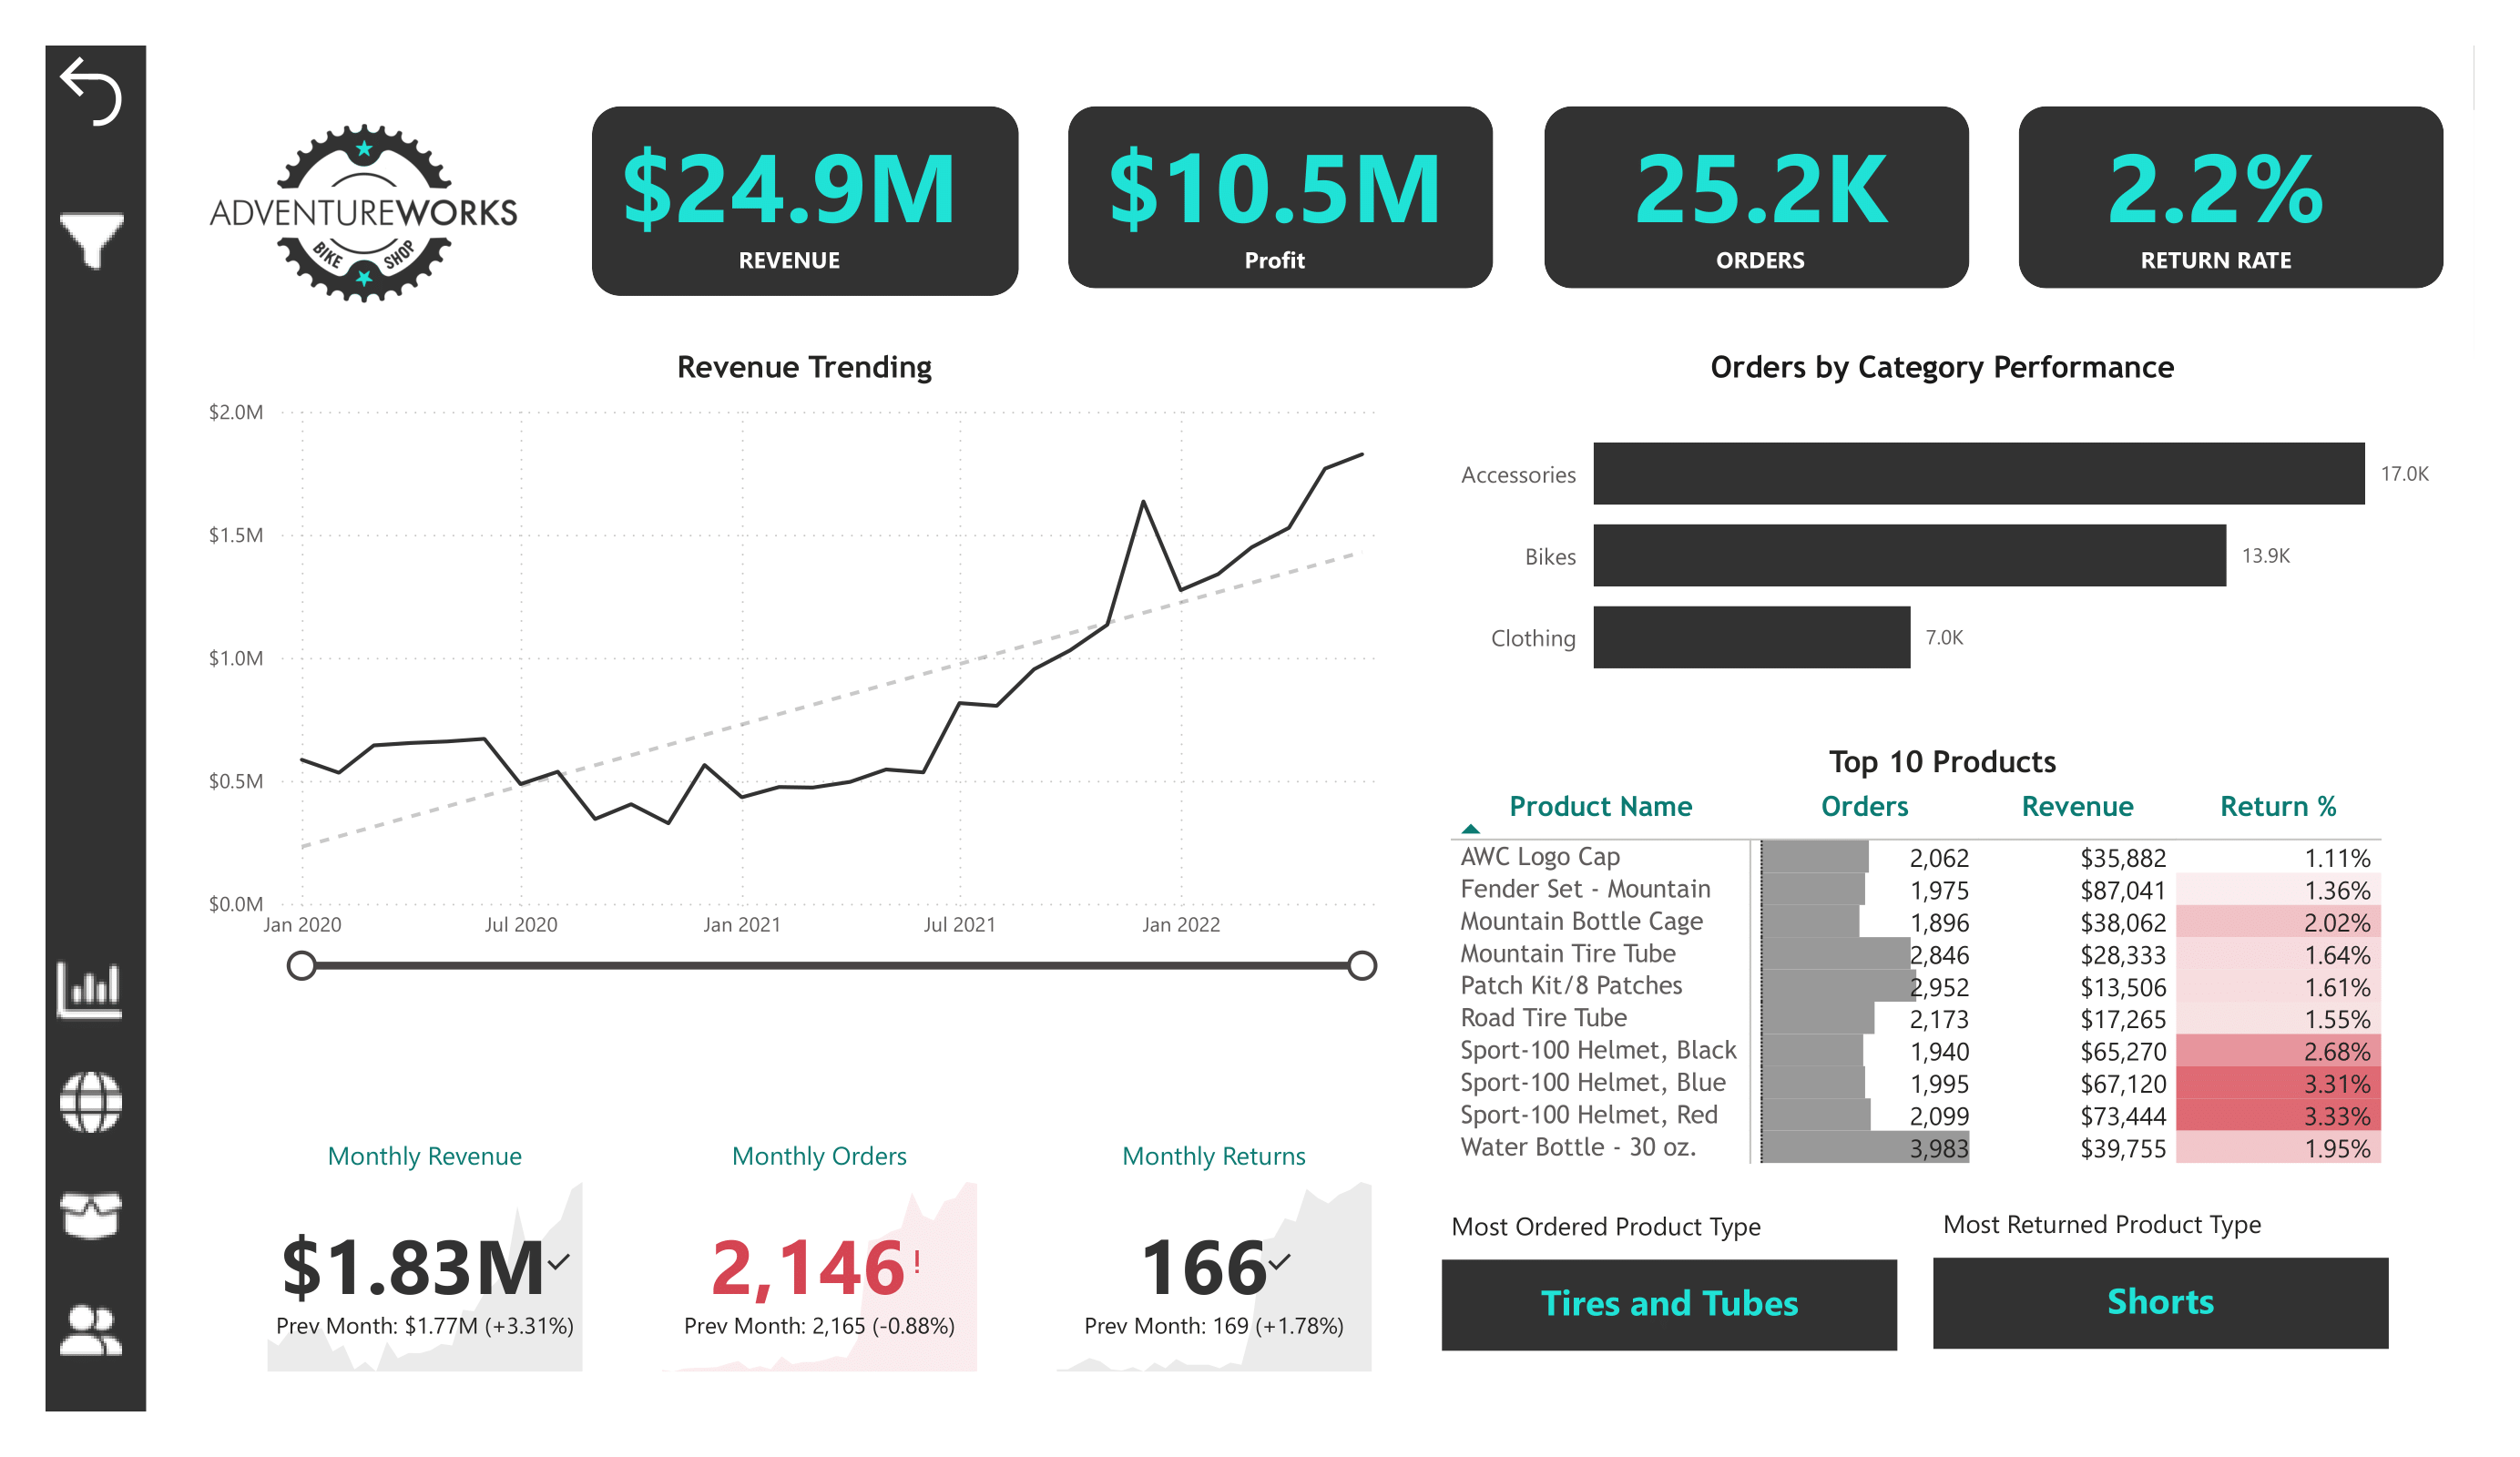

What the dashboard file says about the page in this screenshot:
{"tool":"powerbi","page":{"name":"Exec Performance Overview","canvas":[1280,720],"ordinal":0},"visuals":[{"type":"card","fields":{"Values":["Measure Table.Total Revenue"]},"box":[288,0,208,160],"z":0,"group":"g2"},{"type":"group","id":"g1","title":"KPI Backgrounds","box":[288,32,976,100],"z":0,"group":"g3"},{"type":"shape","box":[288,32,225,100],"z":0,"group":"g1"},{"type":"actionButton","box":[2.2,476.7,44.4,42.2],"z":0,"group":"g4"},{"type":"textbox","box":[736,608,240,48],"z":0},{"type":"group","id":"g2","title":"KPI VALUE","box":[288,0,960,160],"z":1000,"group":"g3"},{"type":"card","fields":{"Values":["Measure Table.Return Rate"]},"box":[1040,0,208,160],"z":1000,"group":"g2"},{"type":"image","title":"AW-logo","box":[64,32,208,112],"z":1000},{"type":"shape","box":[1040,32,224,96],"z":1000,"group":"g1"},{"type":"actionButton","box":[4.4,537.1,44.4,40],"z":1000,"group":"g4"},{"type":"shape","title":"Left Nav Background","box":[0,0,53.3,720],"z":2000},{"type":"card","fields":{"Values":["Measure Table.Total Orders"]},"box":[800,0,208,160],"z":2000,"group":"g2"},{"type":"shape","box":[539.3,32,224,96],"z":2000,"group":"g1"},{"type":"actionButton","box":[4.4,595.2,40,42.2],"z":2000,"group":"g4"},{"type":"group","id":"g3","title":"KPIs","box":[288,0,976,160],"z":3000},{"type":"card","fields":{"Values":["Measure Table.Total Profit"]},"box":[544,0,208,160],"z":3000,"group":"g2"},{"type":"shape","box":[789.7,32,224,96],"z":3000,"group":"g1"},{"type":"actionButton","box":[4.4,655.6,40,42.2],"z":3000,"group":"g4"},{"type":"lineChart","title":"Revenue Trending","fields":{"Y":["Measure Table.Total Revenue"],"Category":["Calendar Lookup.Year","Calendar Lookup.Start of Quarter","Calendar Lookup.Start of Month"]},"box":[80,160,640,336],"z":4000},{"type":"kpi","title":"Monthly Revenue","fields":{"Indicator":["Measure Table.Total Revenue"],"TrendLine":["Calendar Lookup.Start of Month"],"Goal":["Measure Table.Previous Month Revenue"]},"box":[112,576,176,128],"z":5000},{"type":"kpi","title":"Monthly Returns","fields":{"Indicator":["Measure Table.Total Returns"],"TrendLine":["Calendar Lookup.Start of Month"],"Goal":["Measure Table.Previous Month Returns"]},"box":[528,576,176,128],"z":6000},{"type":"kpi","title":"Monthly Orders","fields":{"TrendLine":["Calendar Lookup.Start of Month"],"Goal":["Measure Table.Previous Month Orders"],"Indicator":["Measure Table.Total Orders"]},"box":[320,576,176,128],"z":7000},{"type":"barChart","title":"Orders by Category Performance","fields":{"Category":["Product Categories Lookup.CategoryName"],"Y":["Measure Table.Total Orders"]},"box":[736,160,528,192],"z":8000},{"type":"pivotTable","title":"Top 10 Products","fields":{"Rows":["Product Lookup.ProductName"],"Values":["Measure Table.Total Orders","Measure Table.Total Revenue","Measure Table.Return Rate"]},"box":[736,368,528,240],"z":9000},{"type":"card","fields":{"Values":["Min(Product Subcategories Lookup.SubcategoryName)"]},"box":[736,640,240,48],"z":10000},{"type":"textbox","box":[995,607.5,240,48],"z":11000},{"type":"card","fields":{"Values":["Min(Product Subcategories Lookup.SubcategoryName)"]},"box":[995,639.5,240,48],"z":12000},{"type":"actionButton","box":[0,0,53.3,47.8],"z":13000},{"type":"group","id":"g4","title":"Navigation Buttons","box":[2.2,476.7,46.7,221.1],"z":14000},{"type":"actionButton","box":[4.2,83.1,44.7,40.5],"z":15000}]}

Visuals, with their boxes on the page's 1280x720 design canvas (x1, y1, x2, y2). These are canvas units, not pixel positions in the 2520x1457 screenshot, which may show the page scaled, cropped or inside an application window:
card - Measure Table.Total Revenue: [288, 0, 496, 160]
"KPI Backgrounds" group: [288, 32, 1264, 132]
shape: [288, 32, 513, 132]
actionButton: [2, 477, 47, 519]
textbox: [736, 608, 976, 656]
"KPI VALUE" group: [288, 0, 1248, 160]
card - Measure Table.Return Rate: [1040, 0, 1248, 160]
"AW-logo" image: [64, 32, 272, 144]
shape: [1040, 32, 1264, 128]
actionButton: [4, 537, 49, 577]
"Left Nav Background" shape: [0, 0, 53, 720]
card - Measure Table.Total Orders: [800, 0, 1008, 160]
shape: [539, 32, 763, 128]
actionButton: [4, 595, 44, 637]
"KPIs" group: [288, 0, 1264, 160]
card - Measure Table.Total Profit: [544, 0, 752, 160]
shape: [790, 32, 1014, 128]
actionButton: [4, 656, 44, 698]
"Revenue Trending" lineChart: [80, 160, 720, 496]
"Monthly Revenue" kpi: [112, 576, 288, 704]
"Monthly Returns" kpi: [528, 576, 704, 704]
"Monthly Orders" kpi: [320, 576, 496, 704]
"Orders by Category Performance" barChart: [736, 160, 1264, 352]
"Top 10 Products" pivotTable: [736, 368, 1264, 608]
card - Min(Product Subcategories Lookup.SubcategoryName): [736, 640, 976, 688]
textbox: [995, 608, 1235, 656]
card - Min(Product Subcategories Lookup.SubcategoryName): [995, 640, 1235, 688]
actionButton: [0, 0, 53, 48]
"Navigation Buttons" group: [2, 477, 49, 698]
actionButton: [4, 83, 49, 124]
